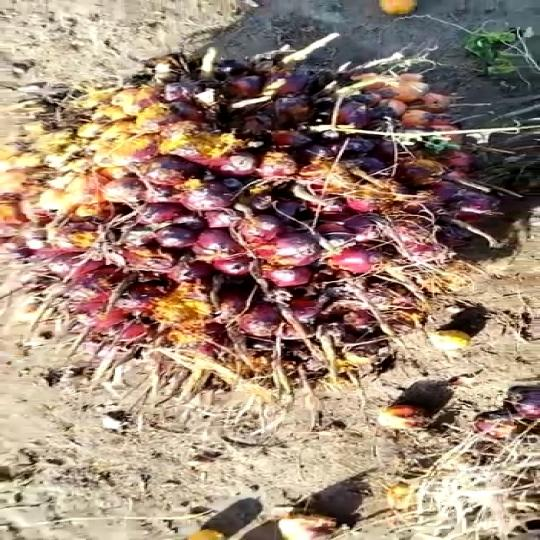masak: (0, 46, 540, 405)
